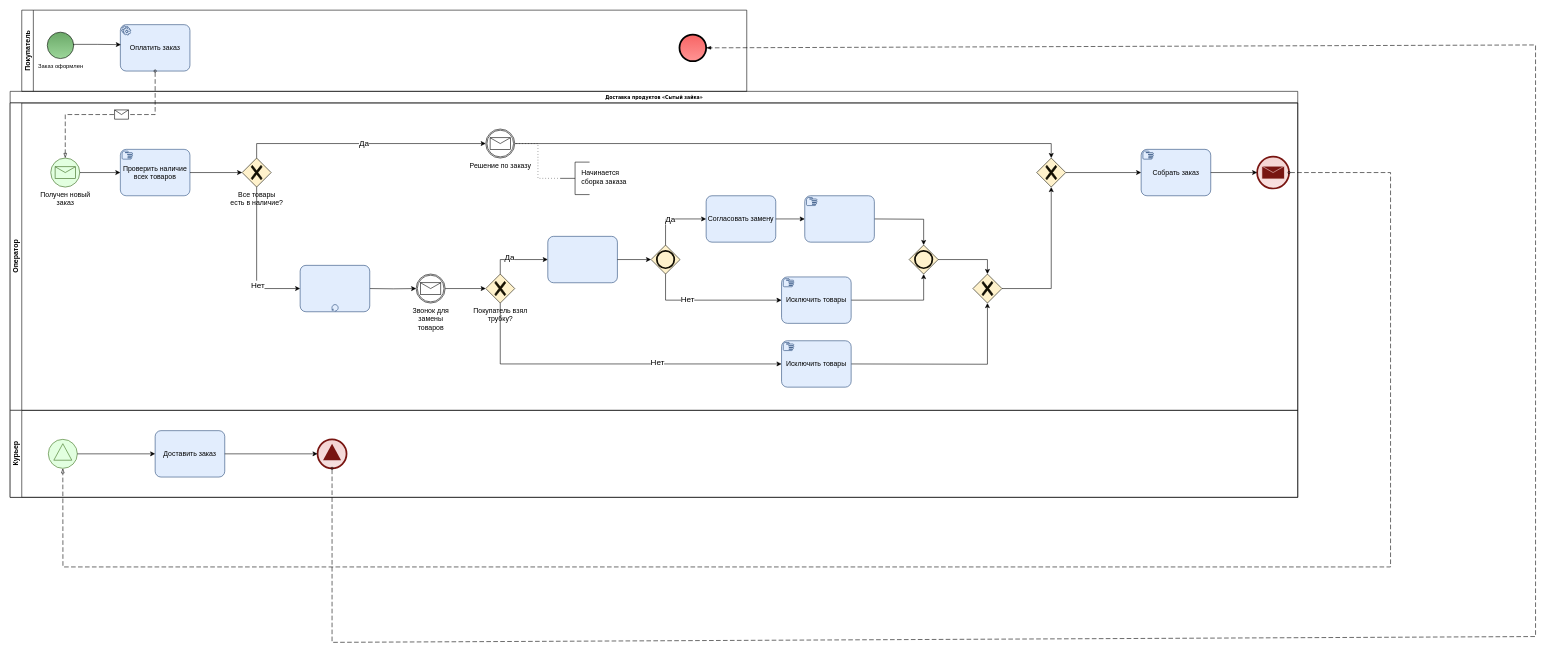
Image size: 1550x657. Some labels were removed from this diagram. Each missing label, with the centre of its shape:
"Заказ готов" belongs at point 1273,172.
"Заказ готов к доставке" belongs at point 62,453.
"Заказ получен" belongs at point 692,47.
"Заменить товары?" belongs at point 665,259.
"Заменить товры на выбранные" belongs at point 839,218.
"Позвонить в дверь" belongs at point 332,453.
"Позвонить покупателю" belongs at point 335,288.
"Предложить замену товаров" belongs at point 582,259.
